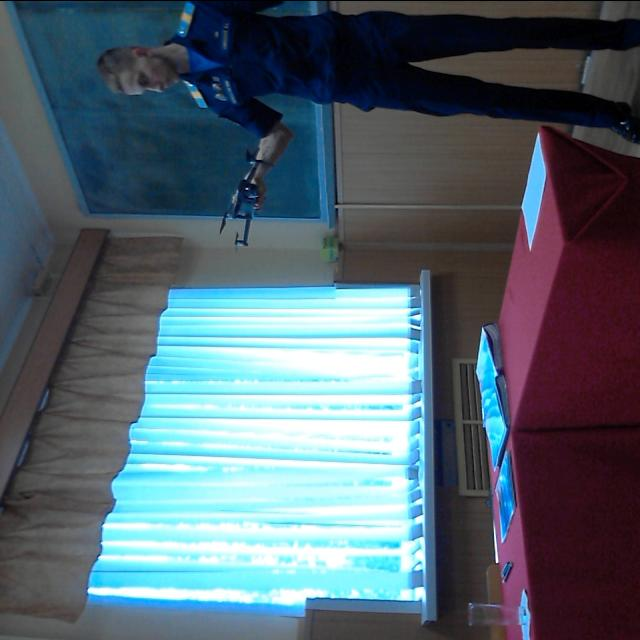drone: (198, 141, 278, 265)
